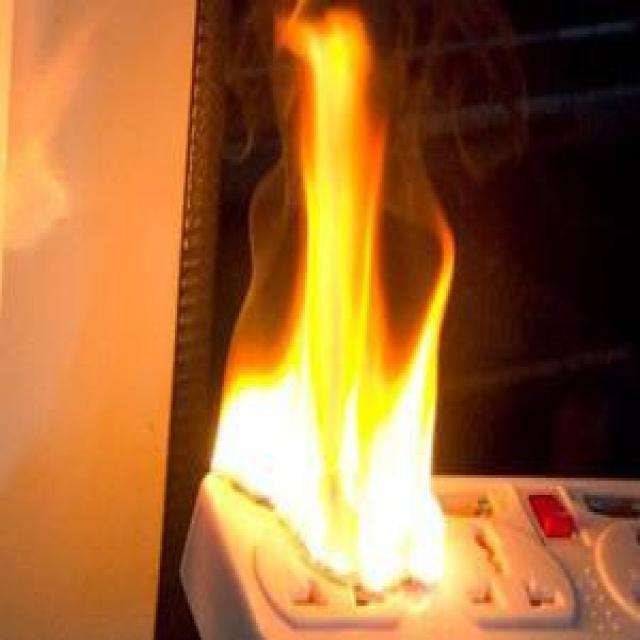Fire: (202, 3, 491, 589)
